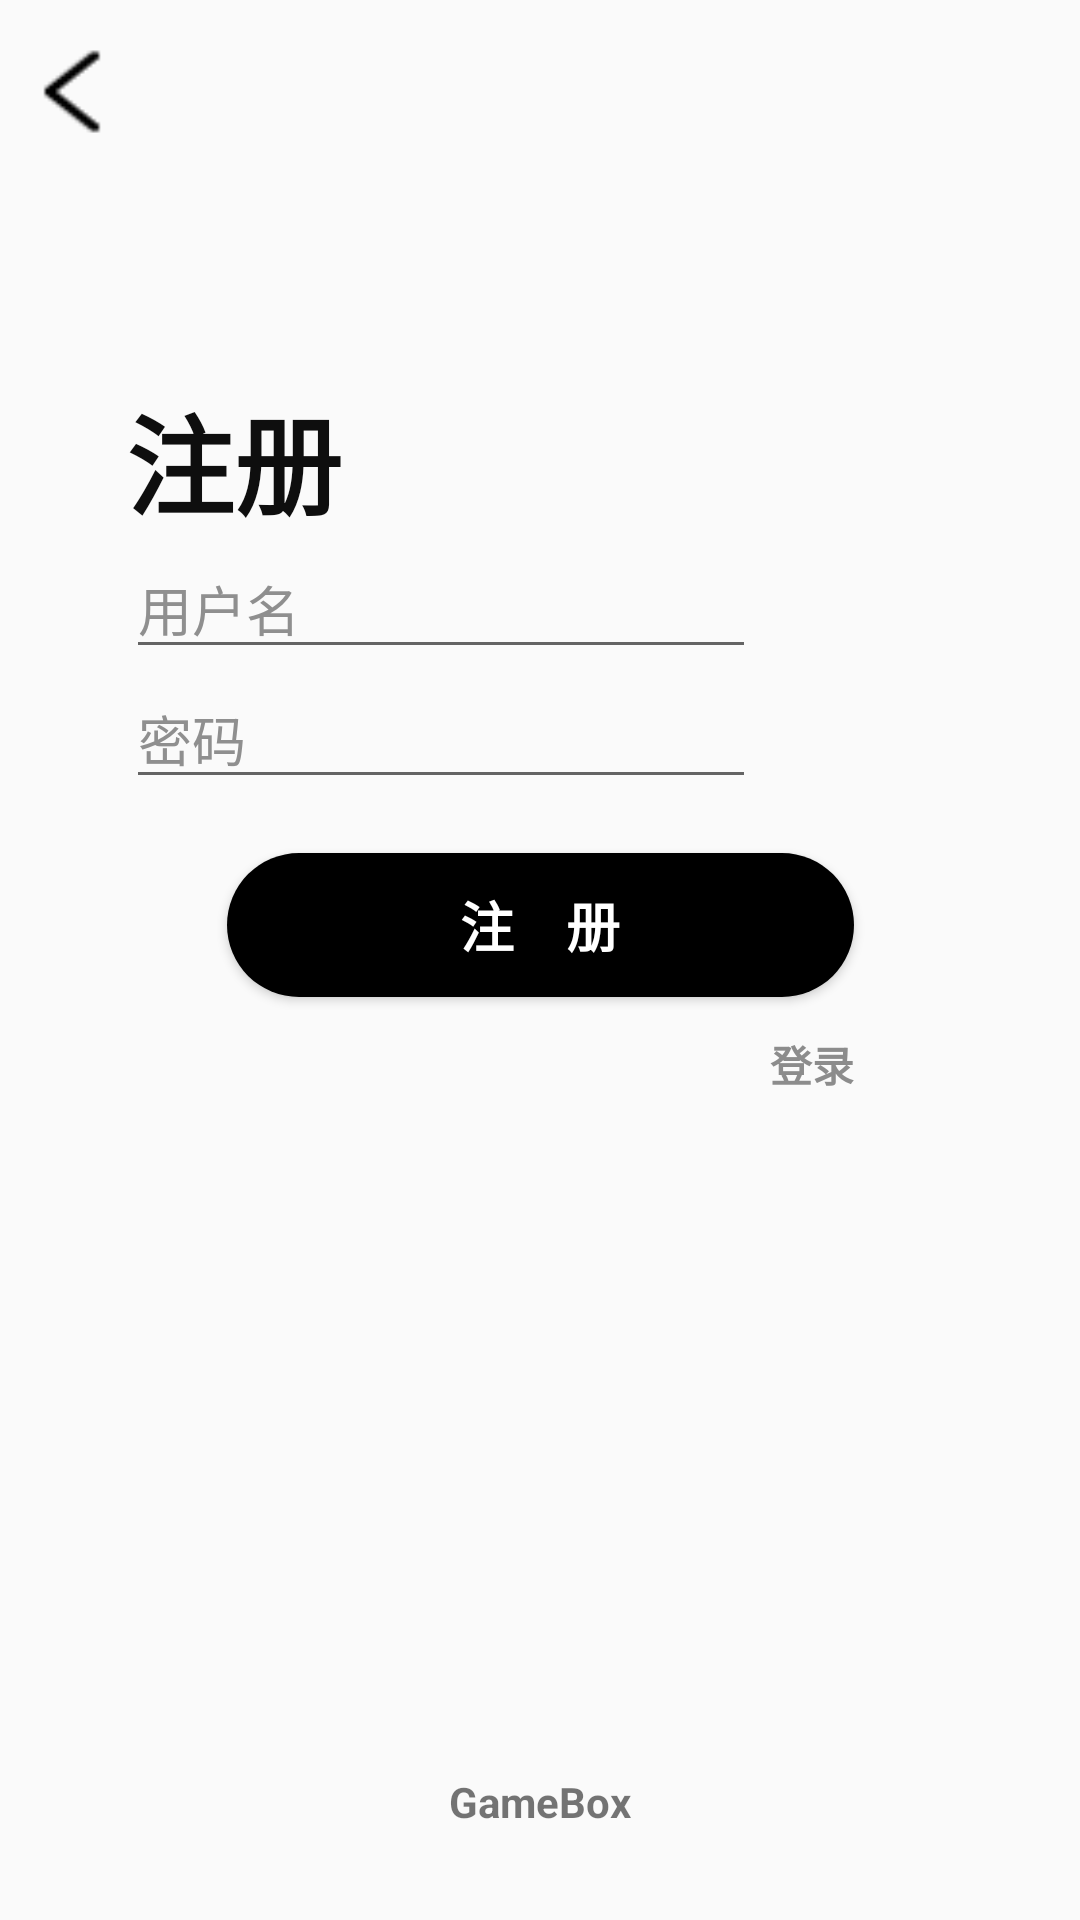

Icon click points for this 1080×1920 phone screenshot, format (x=x, y=y):
arrow go back: (x=72, y=91)
